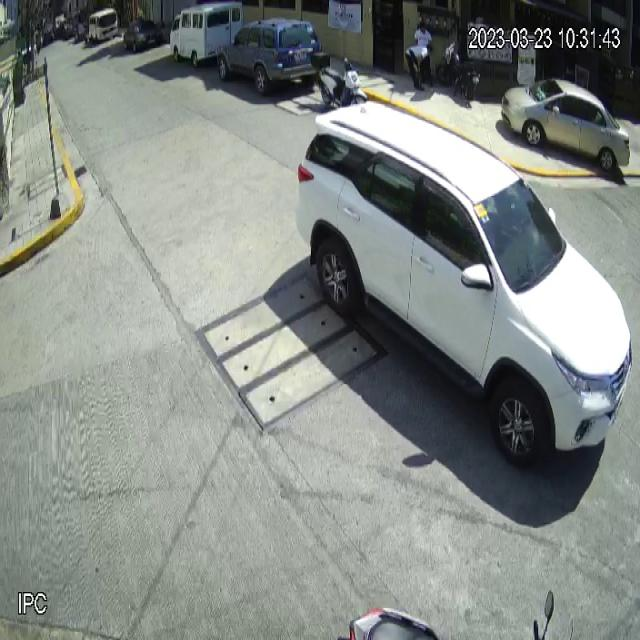Car: (294, 100, 636, 474), (501, 77, 632, 176), (216, 16, 323, 96)
Motorcycle: (311, 51, 369, 120)
Van: (169, 0, 243, 68)
